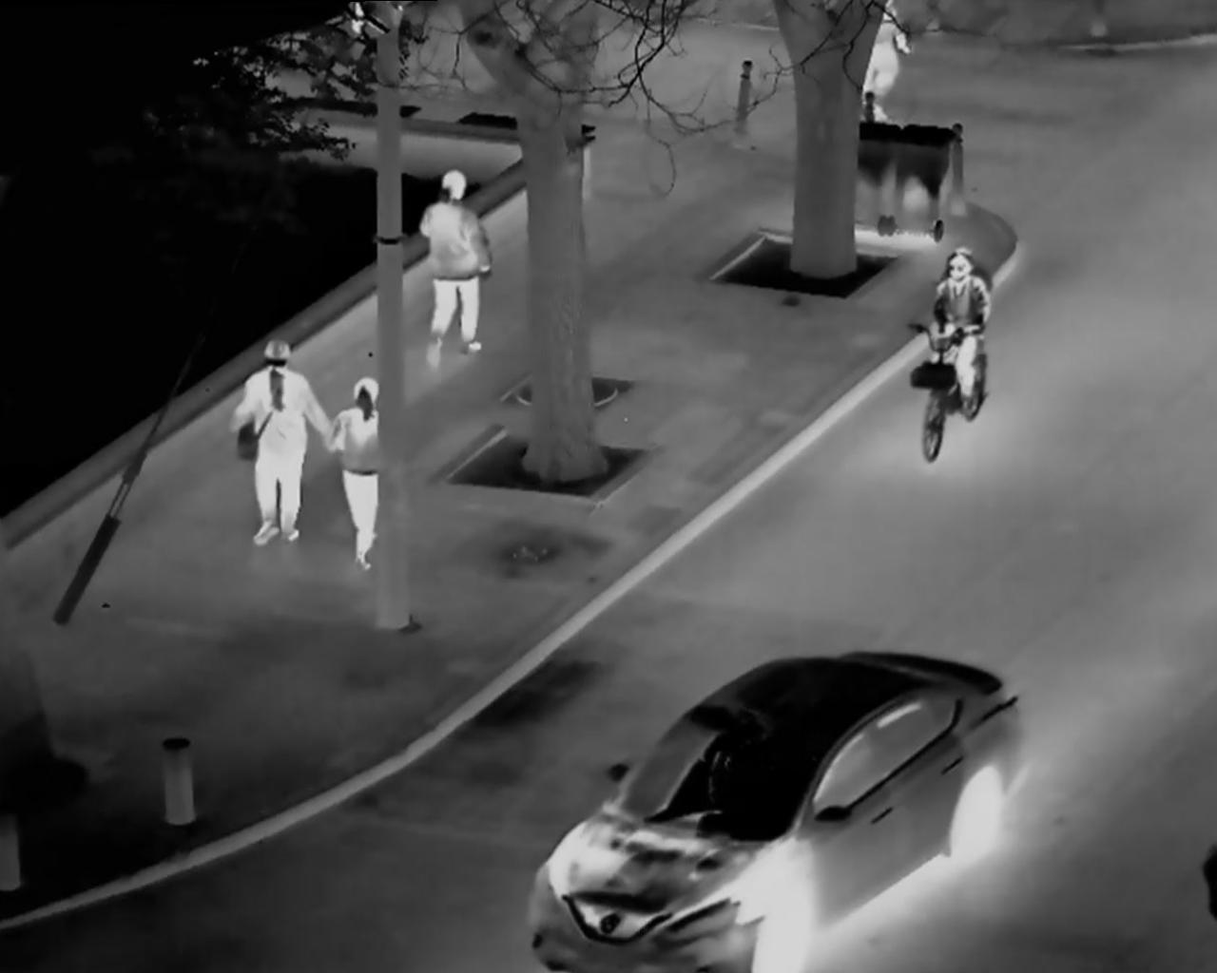person: (239, 322, 322, 559), (915, 235, 997, 450), (418, 157, 492, 355), (338, 372, 400, 576), (860, 5, 919, 154)
